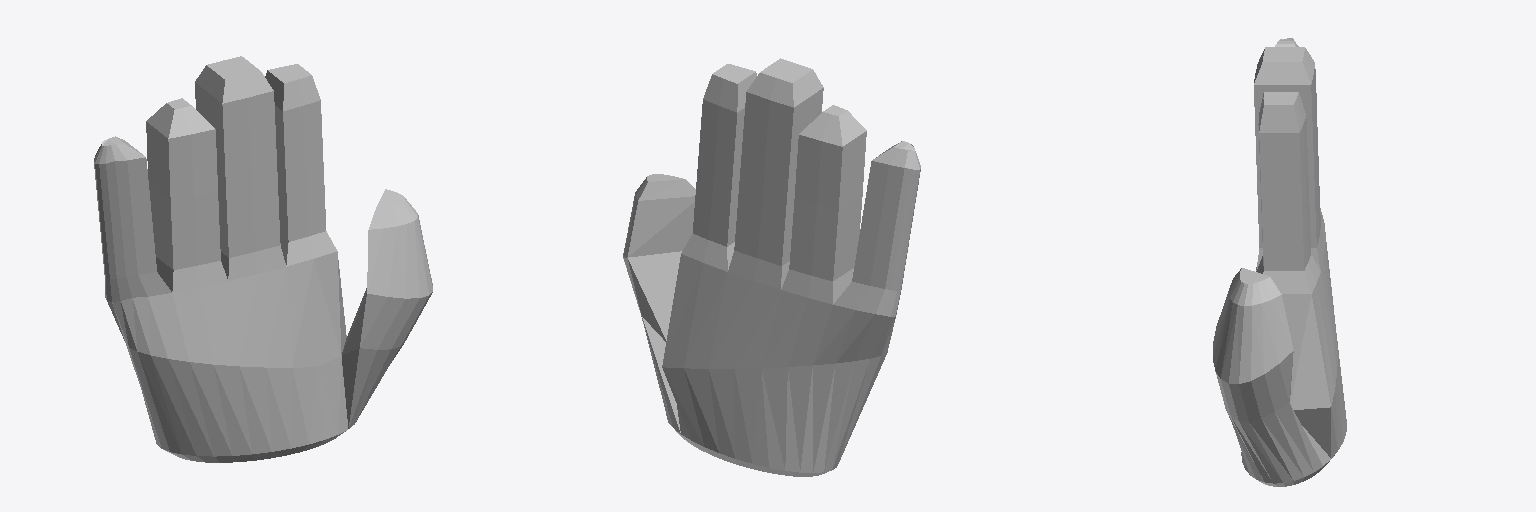
File: Hand.obj
3 renders of one model, left to right at view 1: azimuth 30°, elevation 25°; view 2: azimuth 150°, elevation 25°; view 3: azimuth 270°, elevation 25°, orthographic.
Parts seen in each view (by area): view 1: Arms; view 2: Arms; view 3: Arms.
Boxes of the visible parts, box(x1,y1,x2,y2) form: Arms: box(94, 56, 432, 462); Arms: box(623, 58, 920, 476); Arms: box(1213, 38, 1346, 486).
Size of the model in its own units: 1.16 by 1.36 by 0.4325.